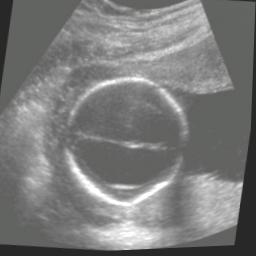abnormal: (49, 66, 200, 216)
